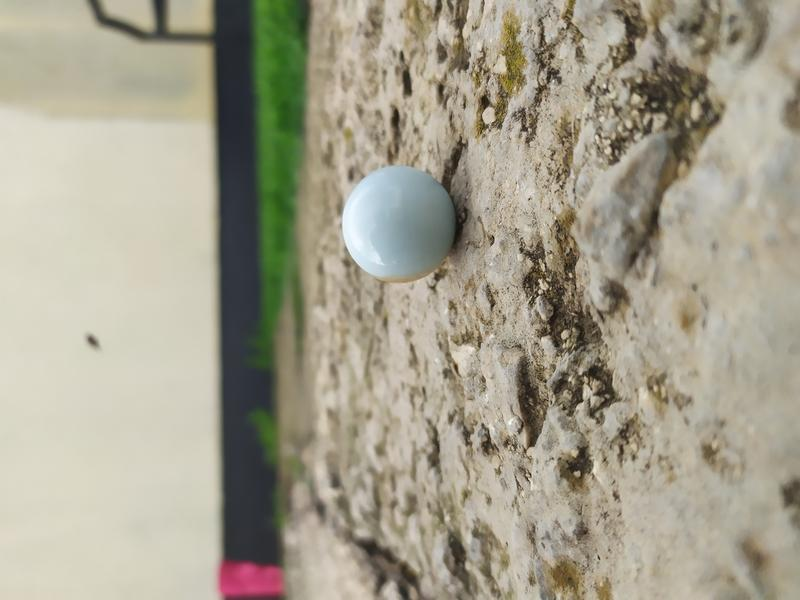Warning: (340, 163, 460, 286)
